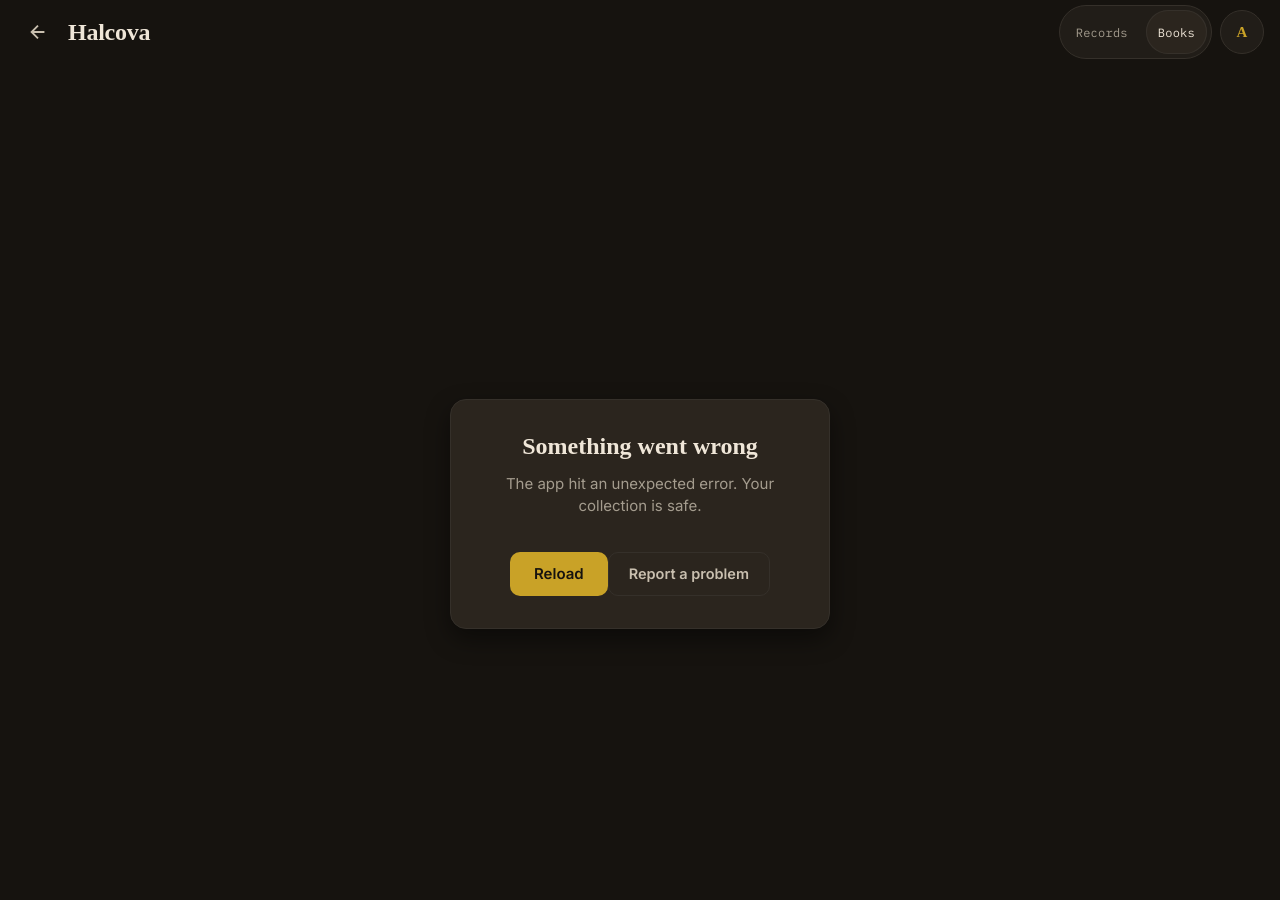
Test: ErrorBoundary crash card → "Report a problem" submits type=bug (feat/feedback #82, epic #74) › reports a crash through the feedback sheet pre-filled as a bug
Expected: the heading "Something went wrong" is shown, [522,433,758,459]
"Report a problem" opens the feedback sheet pre-filled as a bug report.
Click the button "Report a problem" at (689, 574), box [608,552,770,596]
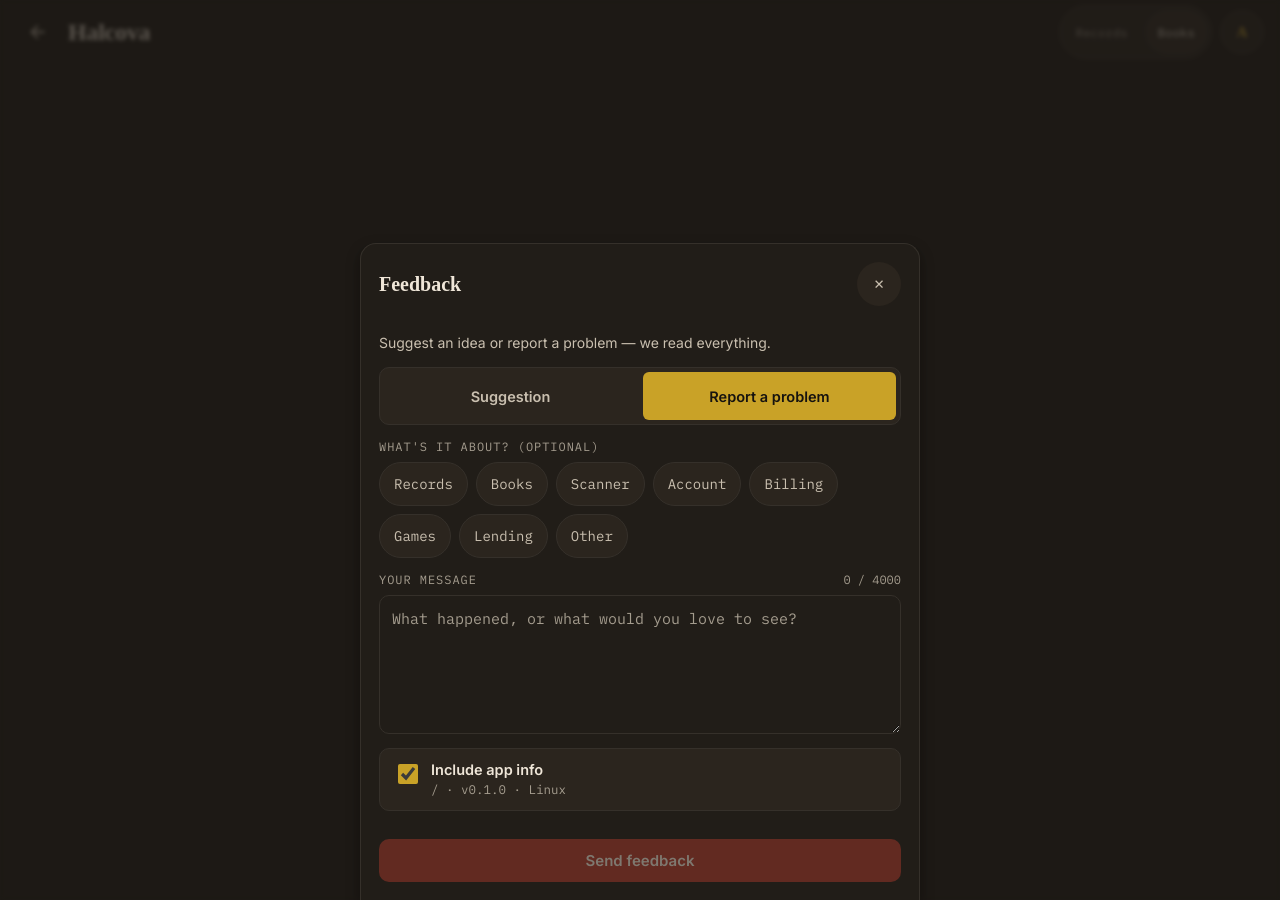
Type "The records tab crashed on load." into the text box labelled "Your message 0 / 4000" at (640, 665), box [379,595,901,734]
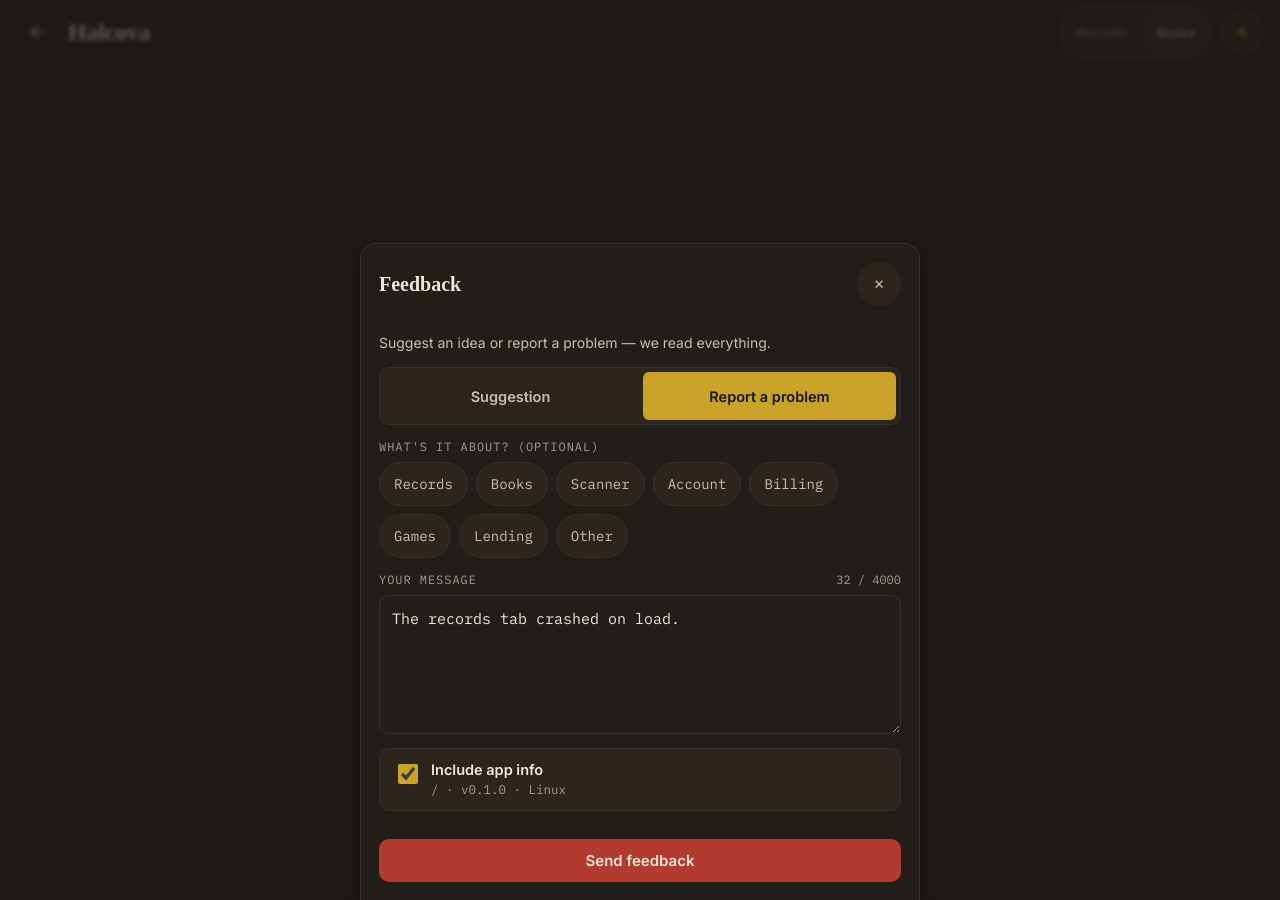
Click the button "Send feedback" at (640, 860), box [379,839,901,882]
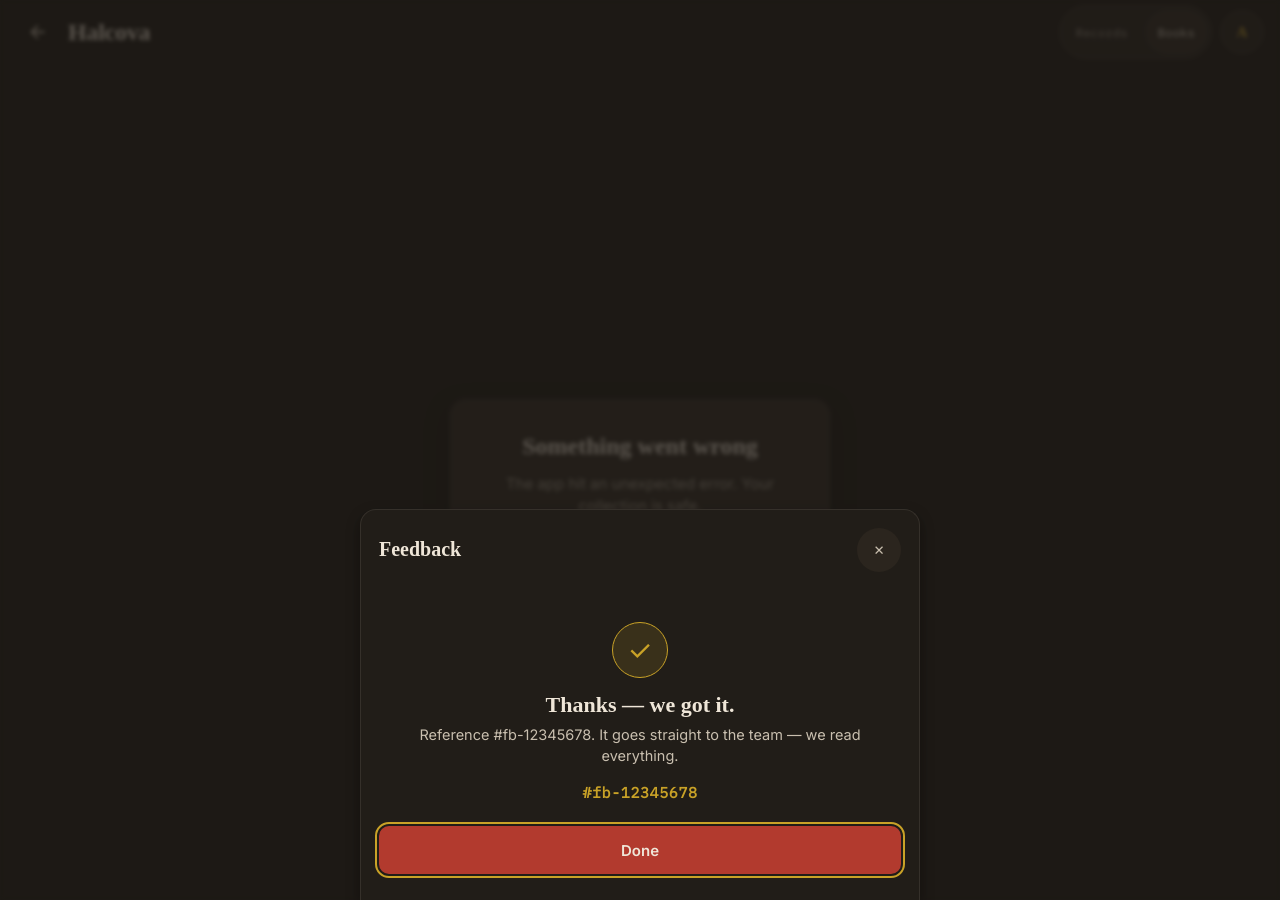
Expected: the text "#fb-12345678" is shown, [582,783,698,802]
